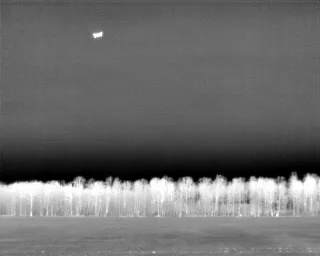DRONE: (88, 26, 108, 43)
